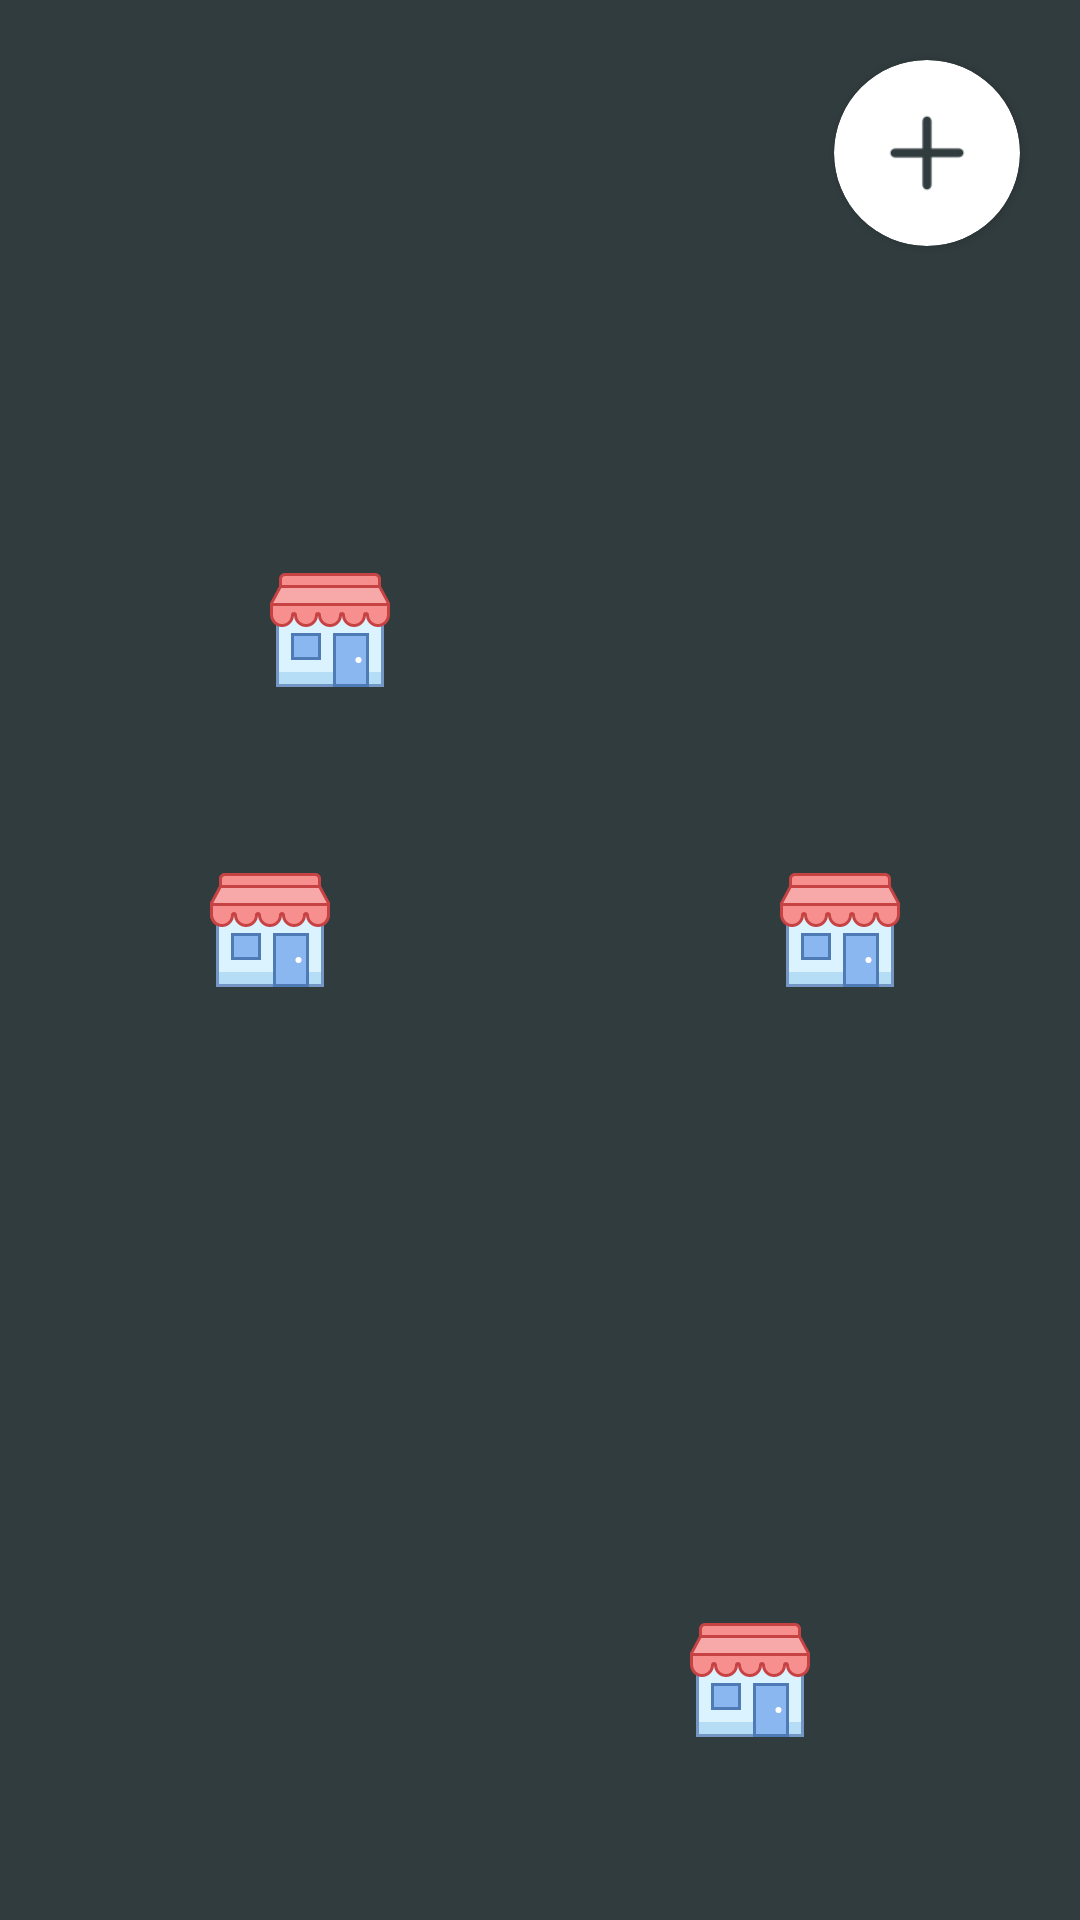

Screen size 1080px×1920px. Icon name, then its center in pixels as (x,y):
add: (927,153)
